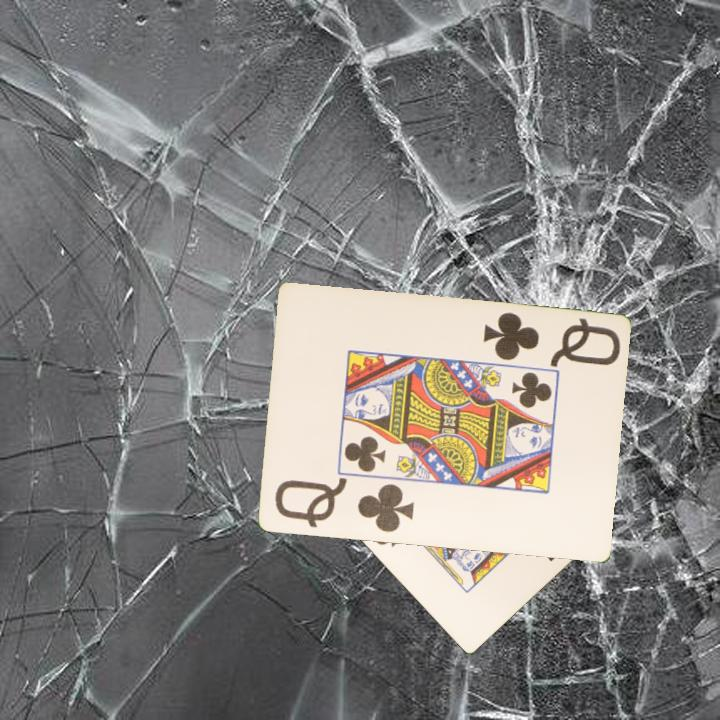Qc: (270, 476, 417, 536), (479, 309, 623, 369)
